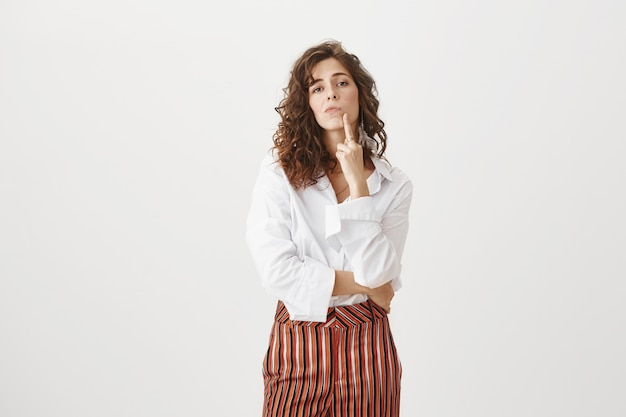insulting_gesture: (330, 110, 368, 181)
